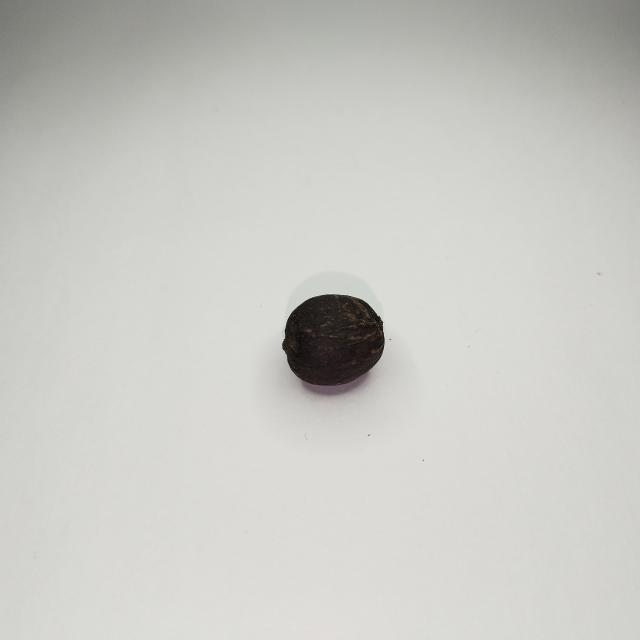Danado: (281, 291, 388, 393)
